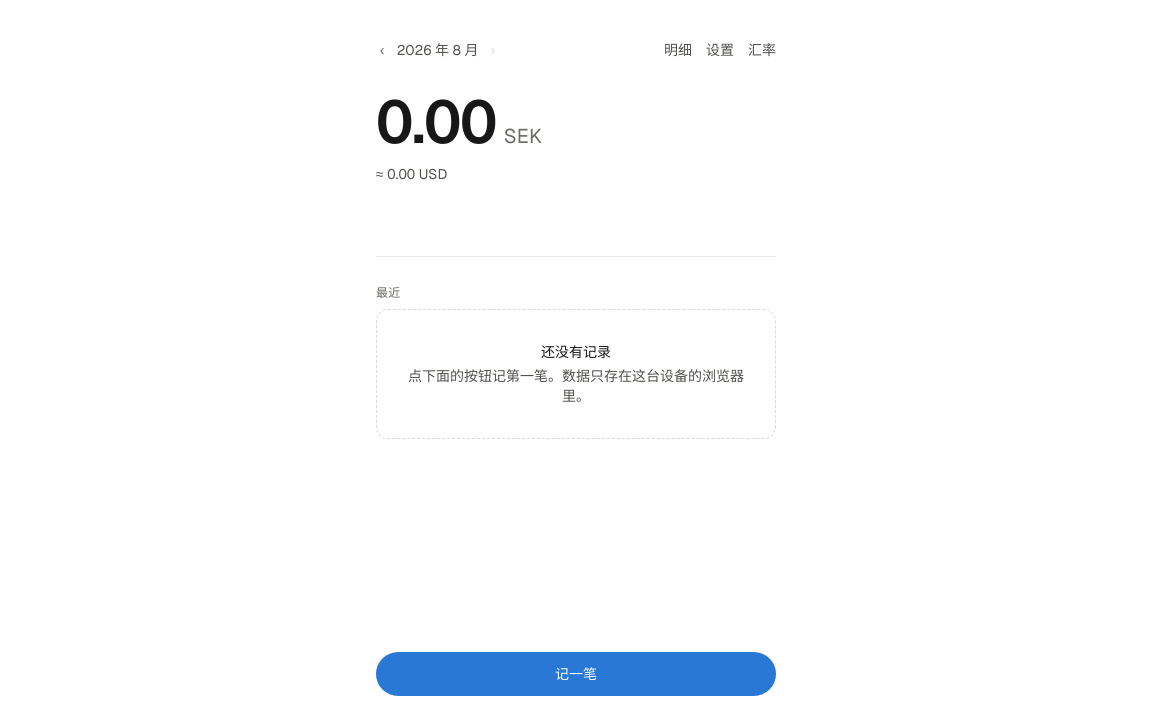
Test: 记一笔 › 填金额选分类保存后，记录出现在页面上并写进了存储
Click the button "记一笔" at (576, 674), box [376,652,776,696]
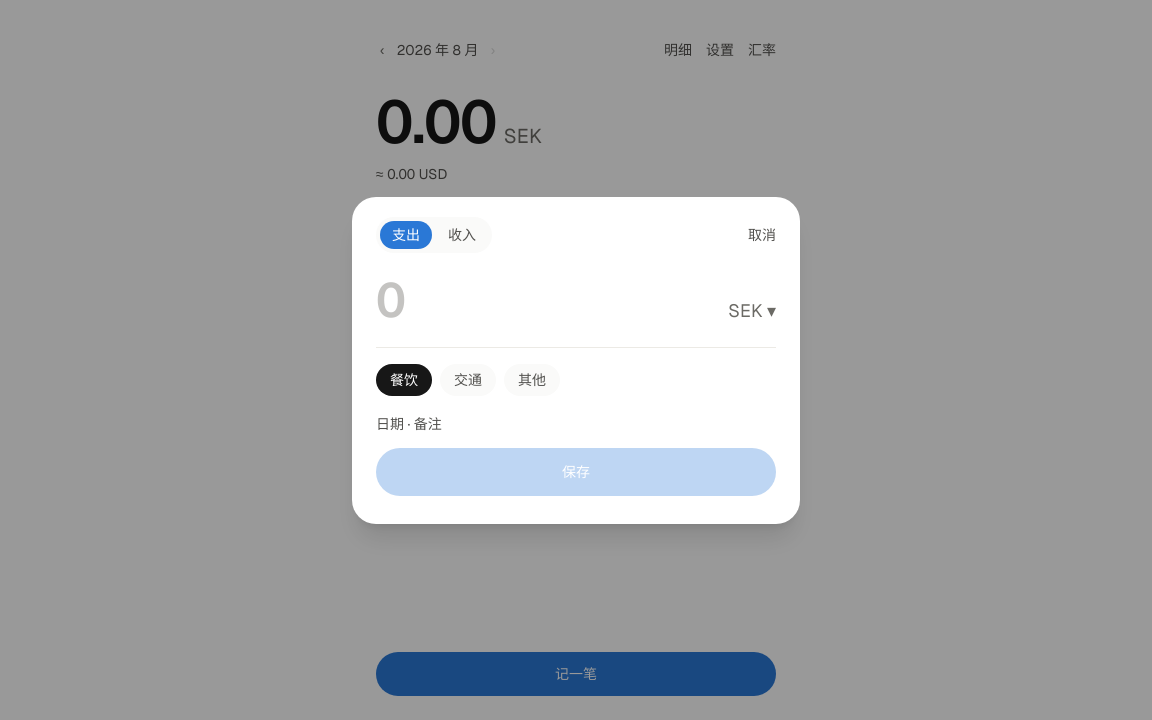
Type "142.50" into the field named "金额" at (548, 300), box [376,268,720,330]
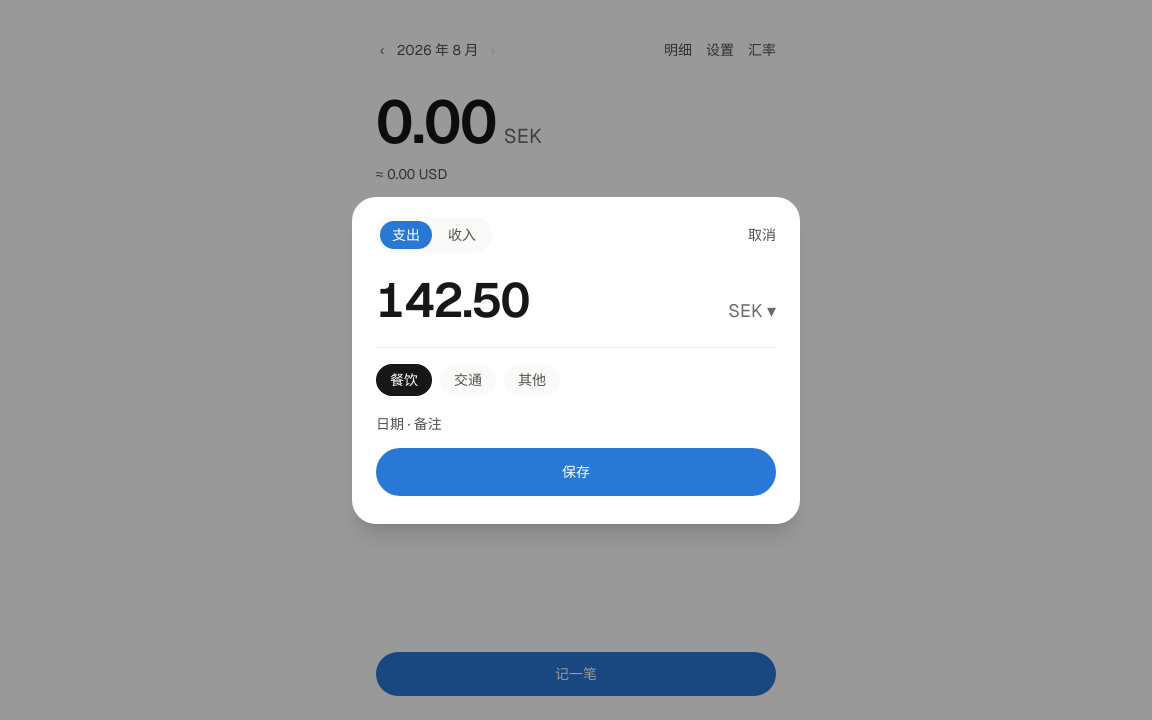
Click the button "交通" at (468, 380), box [440,364,496,396]
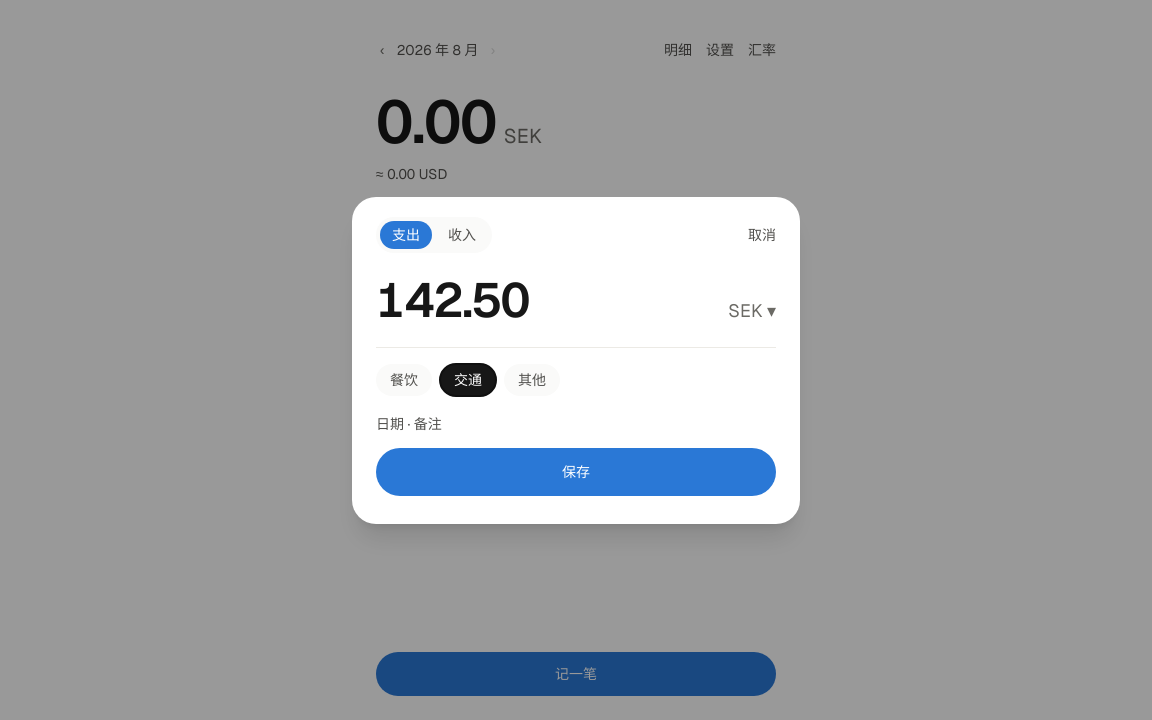
Click the button "保存" at (576, 472), box [376,448,776,496]
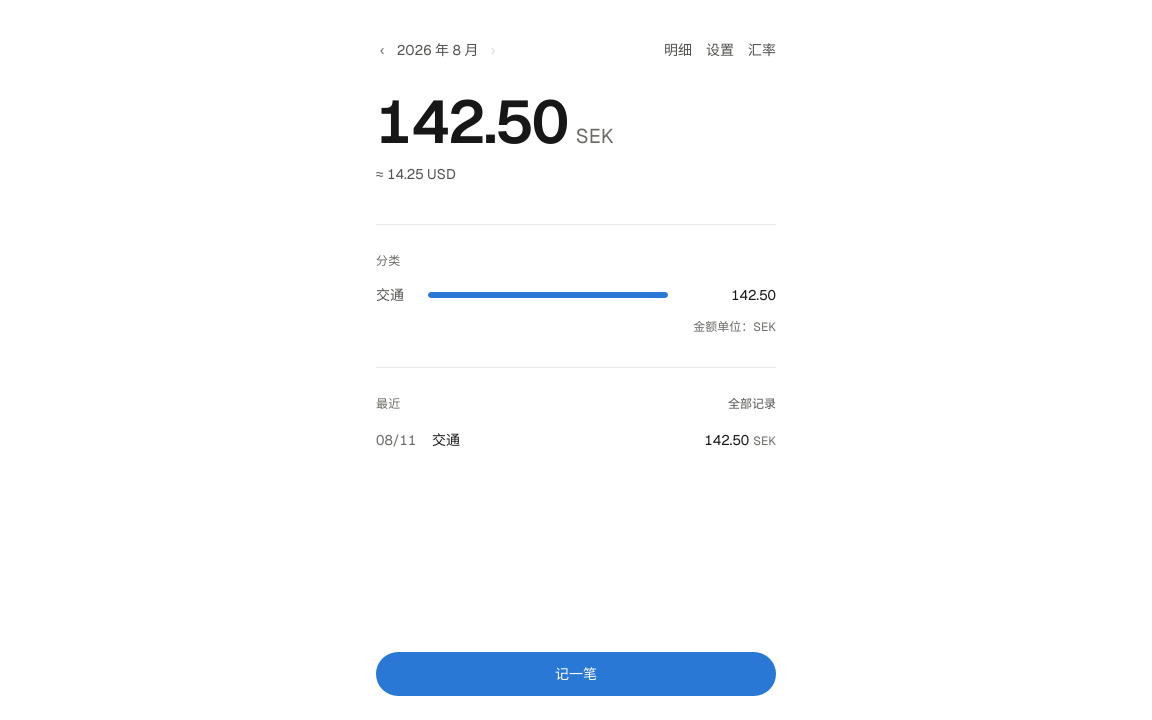
Expected: the button "08/11 交通 142.50SEK" is shown, [376,420,776,460]
